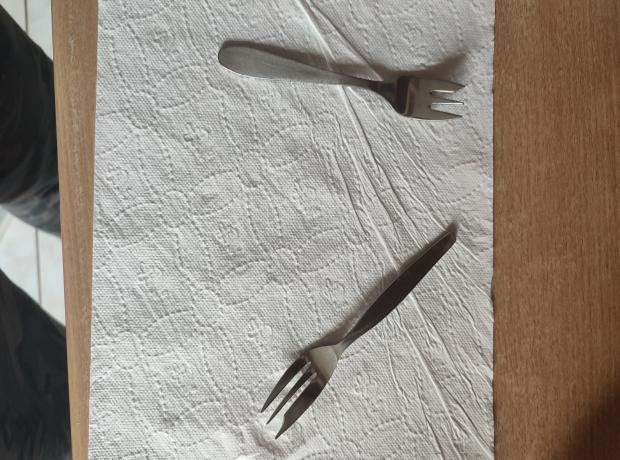metal: (261, 230, 457, 441), (217, 40, 464, 121)
